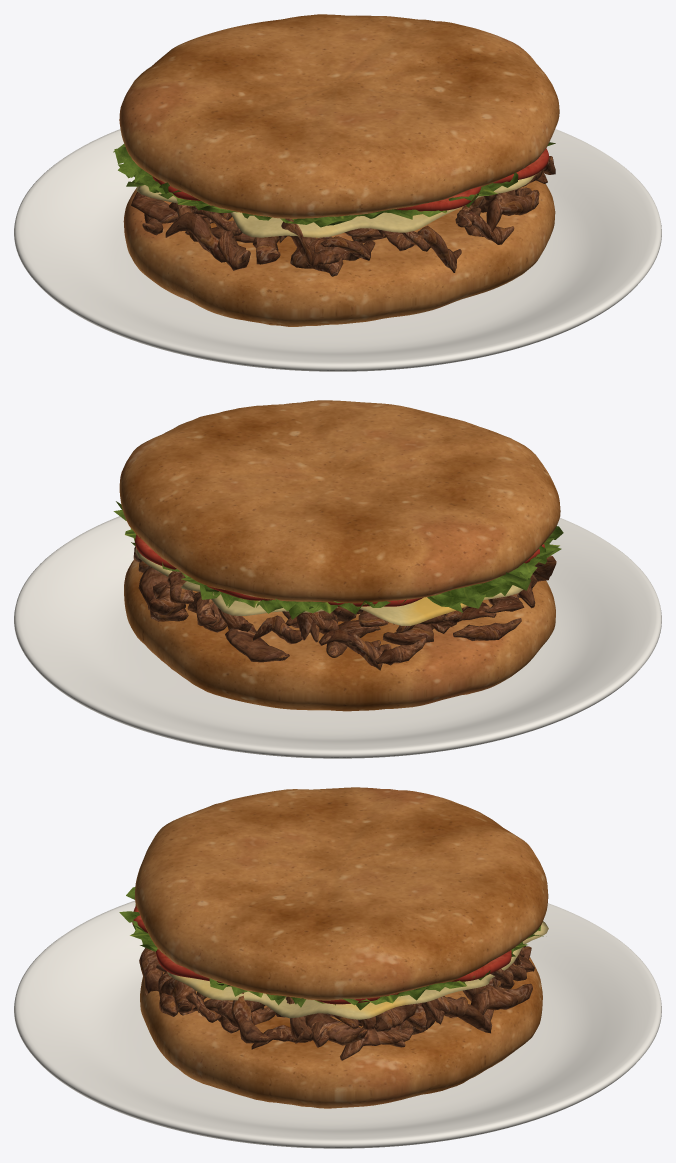
File: xis-pao-sovado.glb
3 views of the same model, one above another, from view 1: azimuth 30°, elevation 25°; view 2: azimuth 150°, elevation 25°; view 3: azimuth 270°, elevation 25° (orthographic).
Parts seen in each view (by area): view 1: pao, prato, carne, camada_clara, alface, tomate; view 2: pao, prato, carne, alface, camada_clara, tomate; view 3: pao, prato, carne, camada_clara, alface, tomate.
Part boxes in pixels (bbox=[...]): pao: bbox=[119, 14, 559, 326]; prato: bbox=[14, 129, 661, 371]; carne: bbox=[131, 156, 555, 276]; camada_clara: bbox=[136, 174, 535, 237]; alface: bbox=[113, 142, 555, 227]; tomate: bbox=[152, 148, 549, 211]; pao: bbox=[119, 400, 560, 711]; prato: bbox=[14, 516, 661, 758]; carne: bbox=[133, 542, 556, 670]; alface: bbox=[113, 501, 563, 619]; camada_clara: bbox=[135, 547, 523, 625]; tomate: bbox=[135, 535, 545, 607]; pao: bbox=[135, 787, 548, 1108]; prato: bbox=[14, 900, 661, 1148]; carne: bbox=[139, 946, 534, 1060]; camada_clara: bbox=[167, 921, 548, 1019]; alface: bbox=[119, 887, 543, 1010]; tomate: bbox=[132, 905, 511, 1004].
Size of the model in its own units: 0.2314 by 0.0741 by 0.2314.
6 materials, 5 textured.
